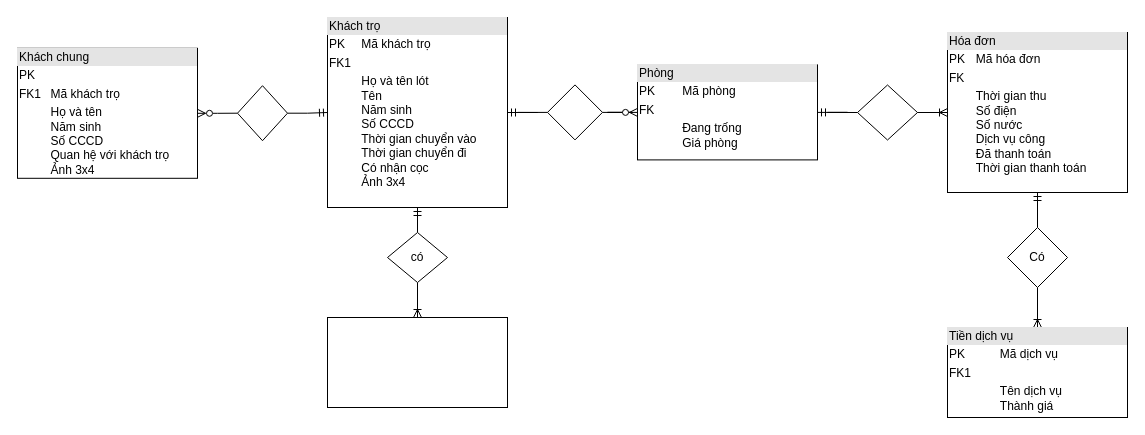
The diagram is 1145 pixels wide and 435 high, and some of its shapes have lost their labels. The shapes that lost their labels are listed below. From the top down, each one's box as (x1, y1, x2, y2) in pixels, then its label:
(236, 85, 288, 141): Quen
(546, 84, 602, 140): Thuê
(856, 84, 918, 140): Sinh
(326, 316, 508, 408): Giấy tờ PK Mã giấy tờ FK1 Mã khách trọ Tên loại giấy tờ Nội dung giấy tờ
